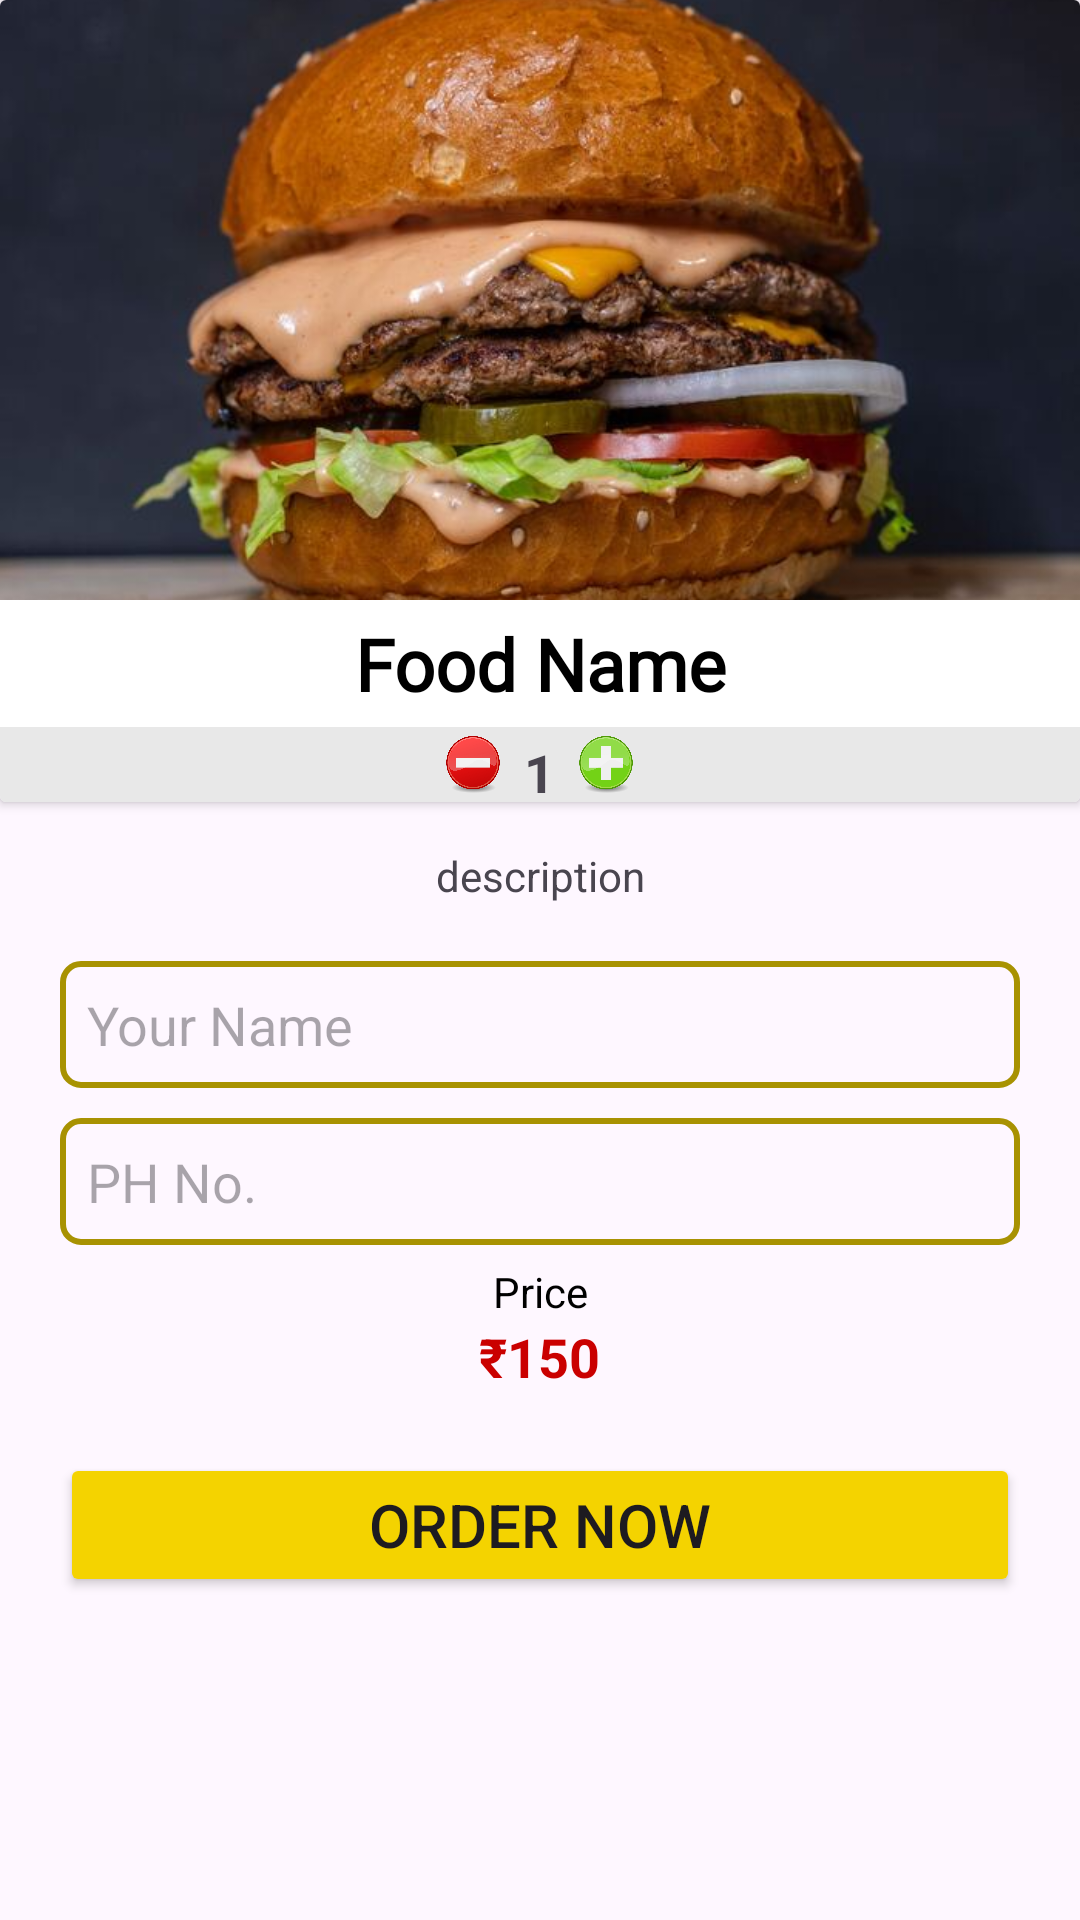

Icon bounding boxes for this 1080 x 1920 phone screenshot, format (x1, y1, x2, y2):
minus: (446, 736, 500, 792)
plus: (579, 736, 633, 792)
